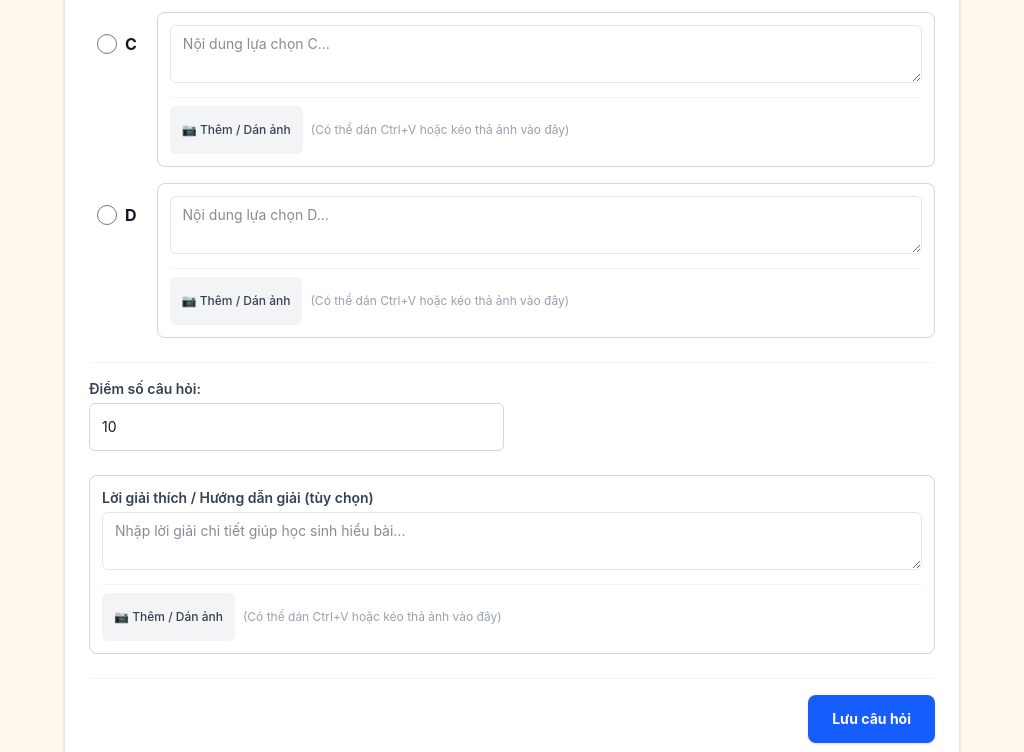
Test: QuestionEditor (apps/teacher-ui - Task 2.2) › validates required fields and reports error when saving empty question
(page scrolled)
Click the button with test id "btn-save-question": x=872, y=719 [808, 695, 935, 743]
(page scrolled)
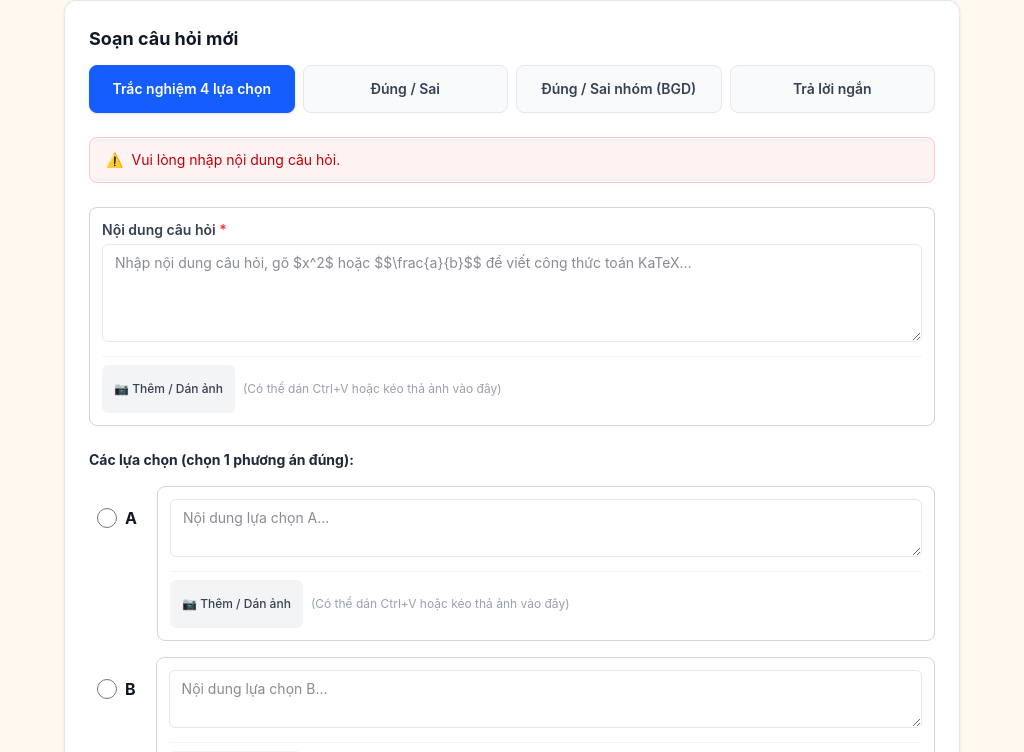
Result: the element with test id "editor-error-message" is shown at [89, 137, 935, 183]
